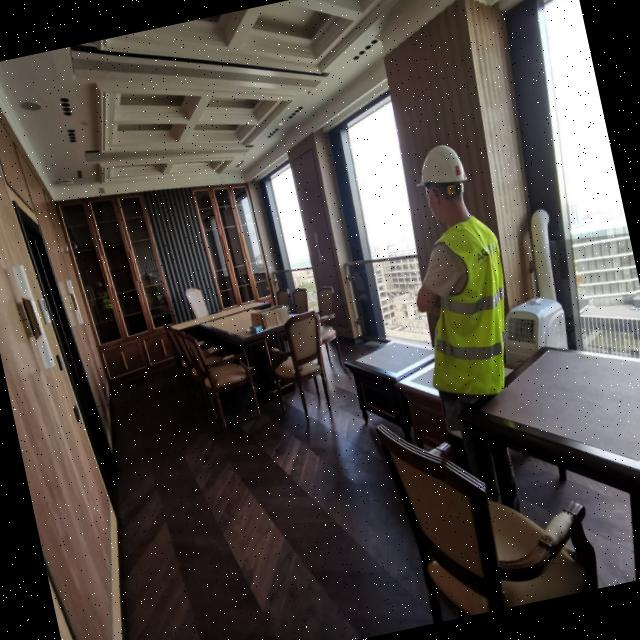Helmet: (411, 141, 481, 234)
